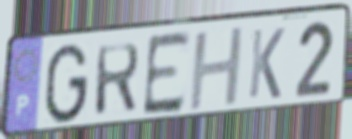2: (293, 17, 338, 101)
E: (141, 28, 193, 120)
G: (42, 42, 91, 127)
H: (186, 23, 246, 115)
K: (246, 25, 287, 101)
R: (93, 40, 142, 119)
